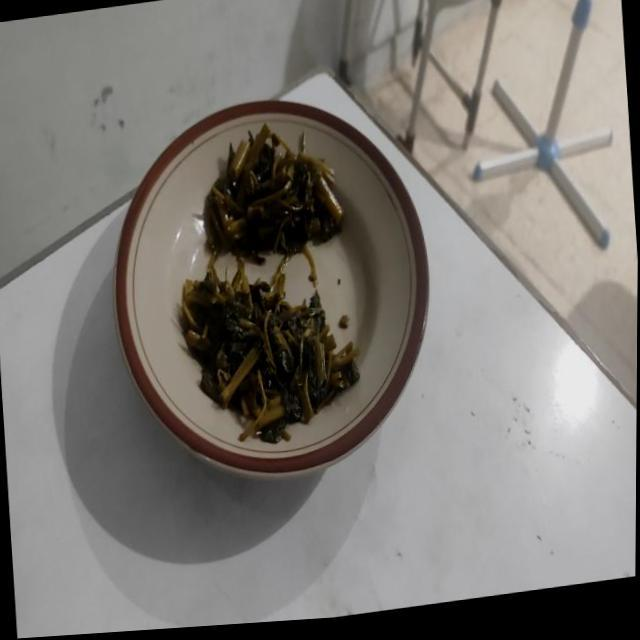tumis_kangkung: (181, 256, 359, 442), (205, 123, 342, 282)
